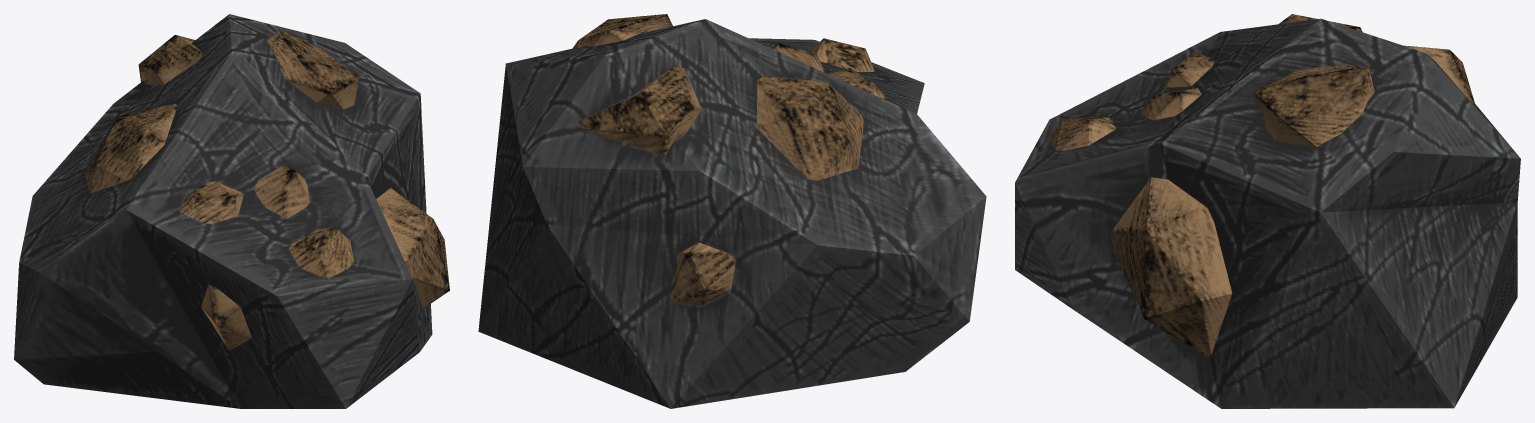
File: bronze.glb
3 views of the same model, side by side, from view 1: azimuth 30°, elevation 25°; view 2: azimuth 150°, elevation 25°; view 3: azimuth 270°, elevation 25° (orthographic). The views are drawn at different scales.
Parts seen in each view (by area): view 1: bronze; view 2: bronze; view 3: bronze.
Boxes of the visible parts, x1,y1,x2,y2 form: bronze: (14,14,449,408); bronze: (478,14,986,408); bronze: (1015,14,1520,408).
Size of the model in its own units: 0.7885 by 0.6 by 0.7591.
1 material, 1 textured.
